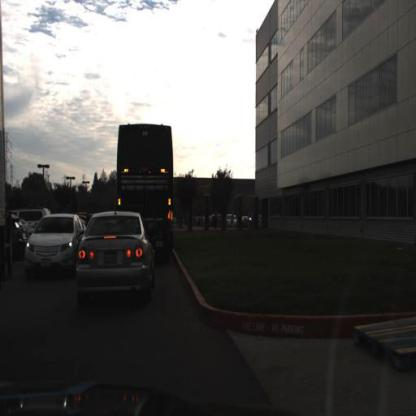car: (72, 209, 153, 292), (22, 211, 92, 275), (223, 212, 239, 230)
truck: (117, 121, 173, 251)
